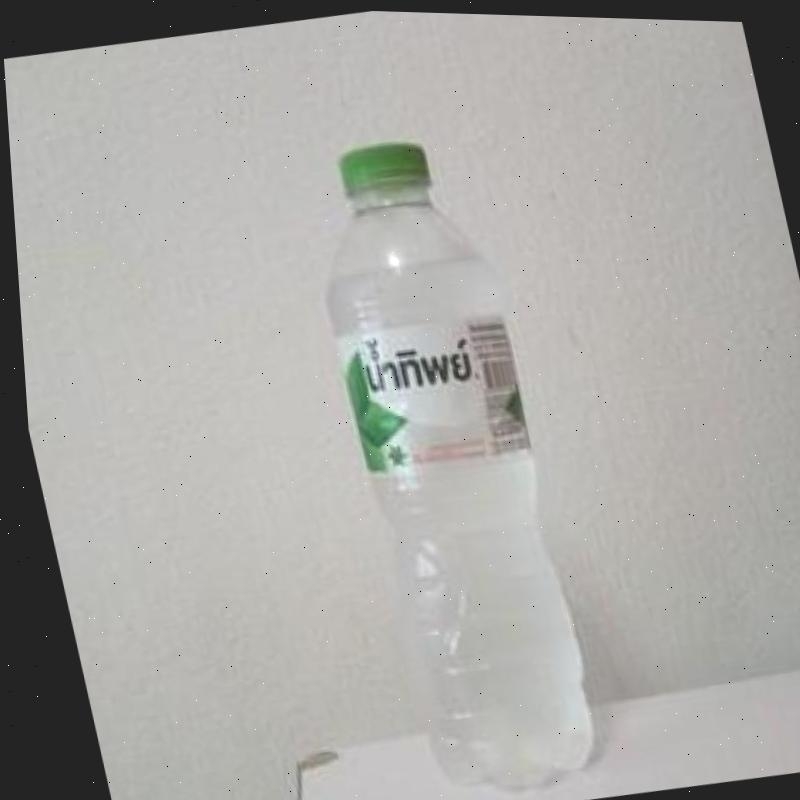botella: (285, 126, 607, 800)
